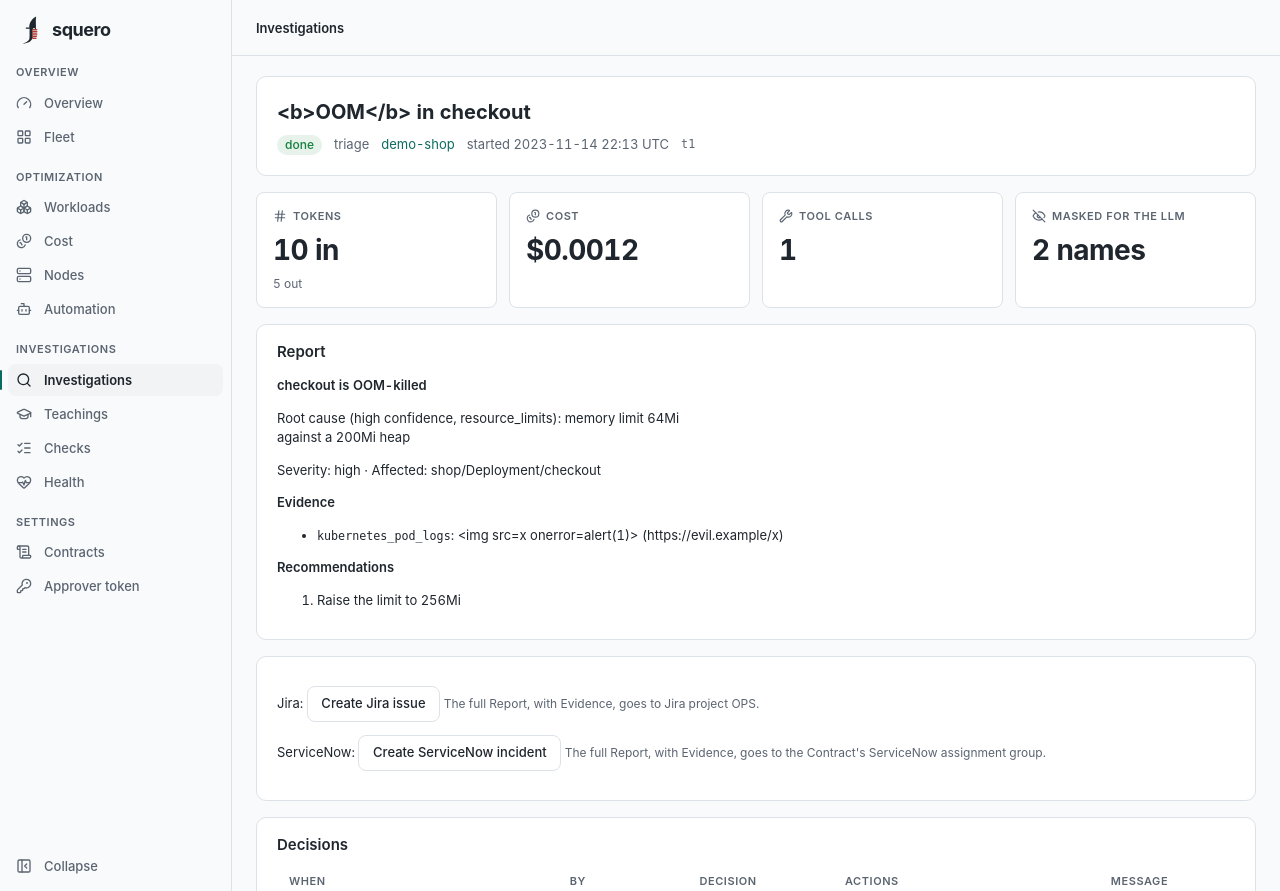
Test: a finished Report files into ServiceNow beside Jira, then links the incident
Click the button "Create ServiceNow incident". click: [460, 753]
box: [358, 735, 561, 771]
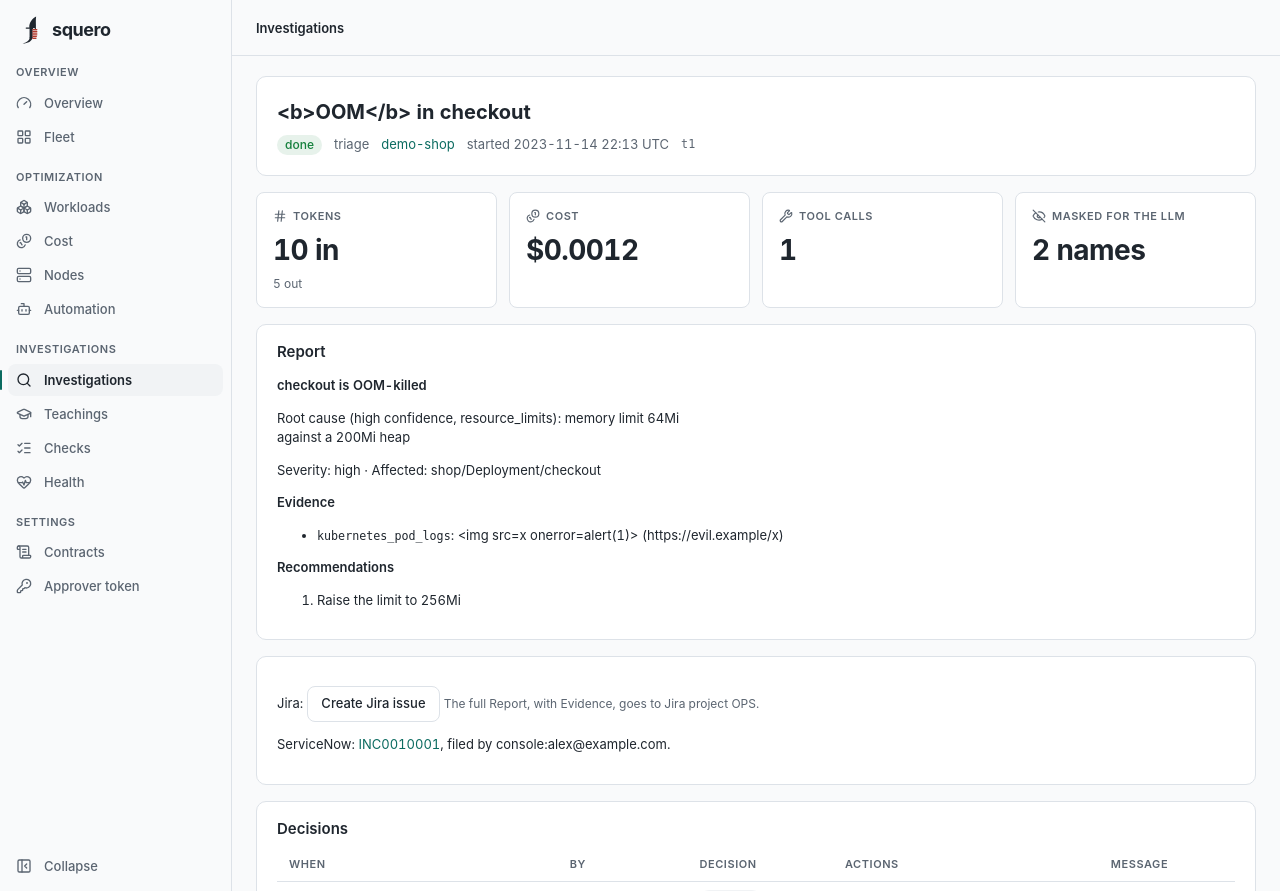
Expected: the button "Create Jira issue" is shown, [307, 686, 440, 722]
Result: the text "INC0010001" reads "ServiceNow: INC0010001 , filed by console:alex@example.com." at [277, 736, 670, 752]
Result: the button "Create ServiceNow incident" is gone
